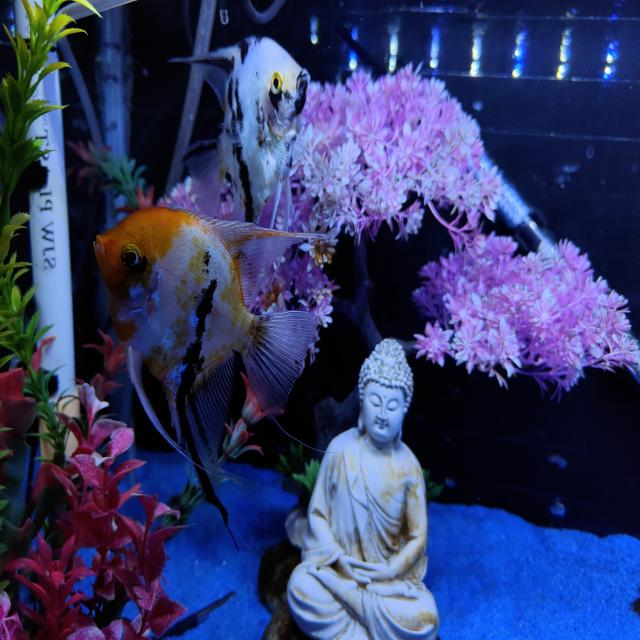Fish: (94, 208, 316, 523), (177, 37, 309, 227)
